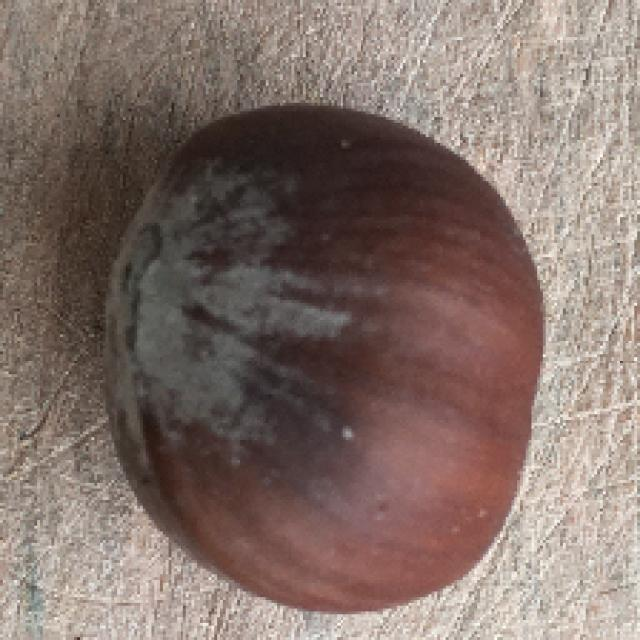damagedHazelnut: (80, 84, 546, 618)
